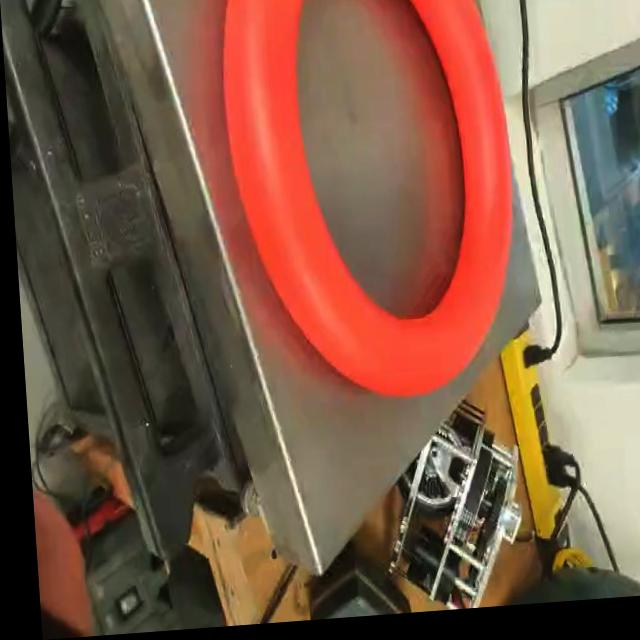note: (207, 0, 527, 421)
